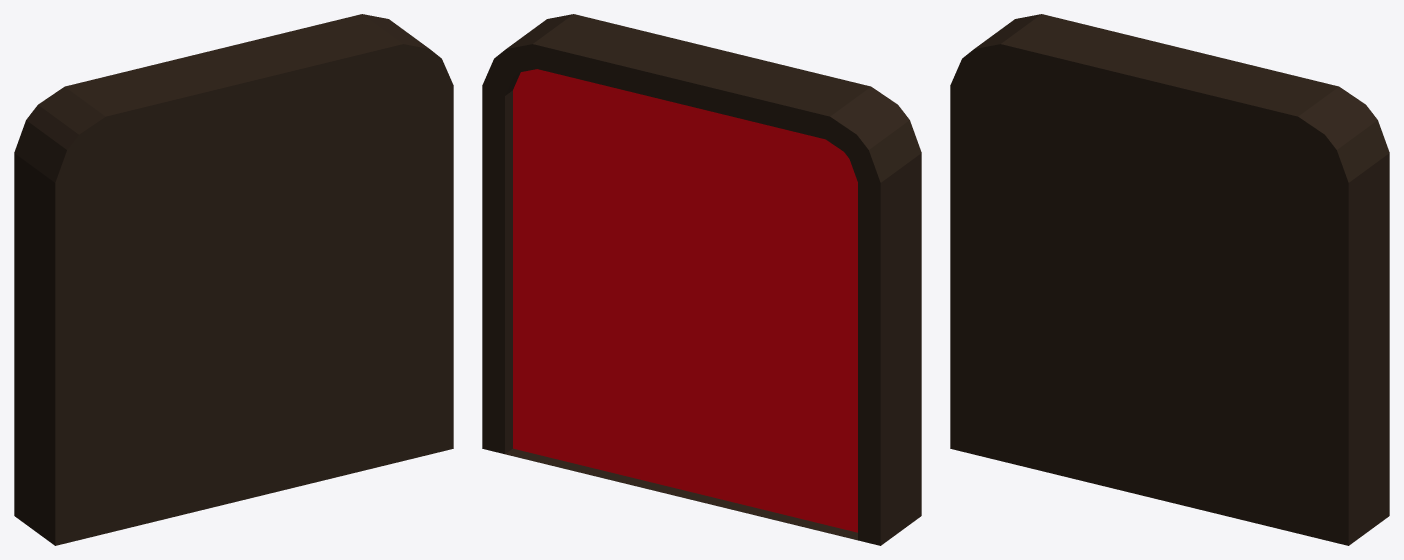
File: baseDoor.fbx
3 views of the same model, side by side, from view 1: azimuth 30°, elevation 25°; view 2: azimuth 150°, elevation 25°; view 3: azimuth 330°, elevation 25° (orthographic).
Visible parts, largest first — view 1: Cube; view 2: Cube; view 3: Cube.
Part boxes in pixels (x1,y1,x2,y2): Cube: [14, 14, 453, 545]; Cube: [482, 14, 921, 545]; Cube: [950, 14, 1389, 545].
Size of the model in its own units: 560 by 560 by 100.
